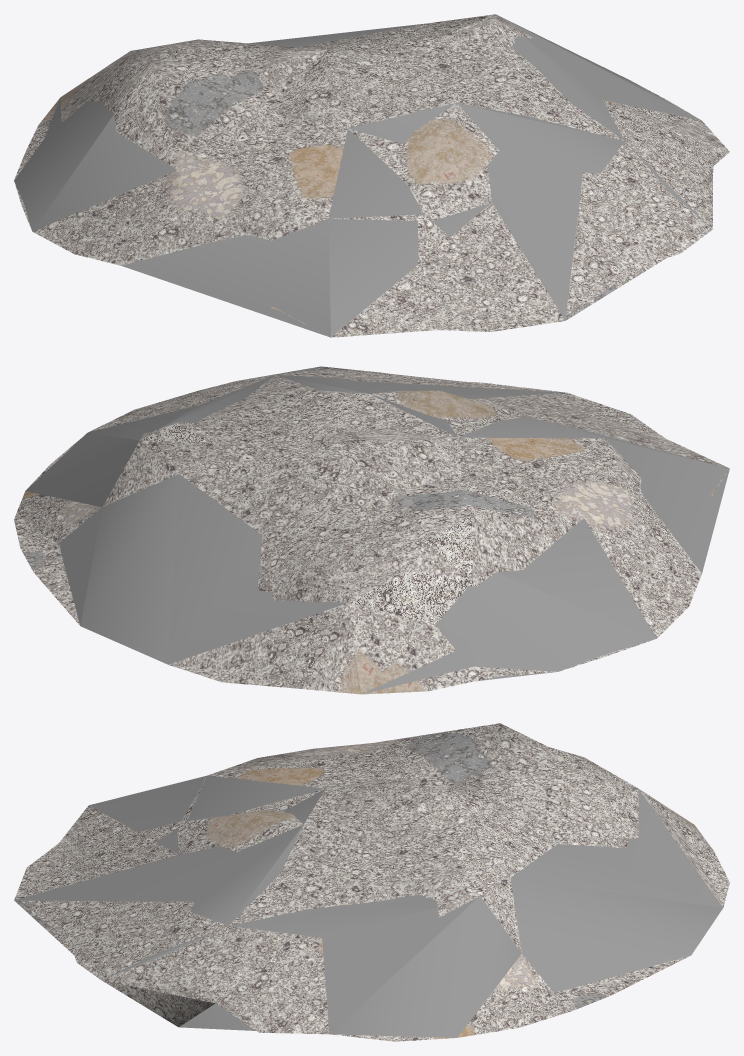
Rendered from ut_debris_a.DAE.
3 renders of one model, top to bottom at view 1: azimuth 30°, elevation 25°; view 2: azimuth 150°, elevation 25°; view 3: azimuth 270°, elevation 25°, orthographic. The views are drawn at different scales.
Visible parts, largest first — view 1: ut_debris_a50, ut_debris_a15, ut_debris_a150; view 2: ut_debris_a15, ut_debris_a50, ut_debris_a150; view 3: ut_debris_a15, ut_debris_a50, ut_debris_a150.
Boxes of the visible parts, x1=… form: ut_debris_a50: x1=33, y1=14, x2=700, y2=337; ut_debris_a15: x1=14, y1=14, x2=710, y2=337; ut_debris_a150: x1=14, y1=14, x2=729, y2=332; ut_debris_a15: x1=25, y1=366, x2=729, y2=694; ut_debris_a50: x1=14, y1=369, x2=728, y2=693; ut_debris_a150: x1=14, y1=366, x2=727, y2=694; ut_debris_a15: x1=15, y1=775, x2=722, y2=1037; ut_debris_a50: x1=14, y1=723, x2=722, y2=1037; ut_debris_a150: x1=14, y1=723, x2=729, y2=1041.
Bounding box in the file's own units: 294 × 308 × 59.29.
